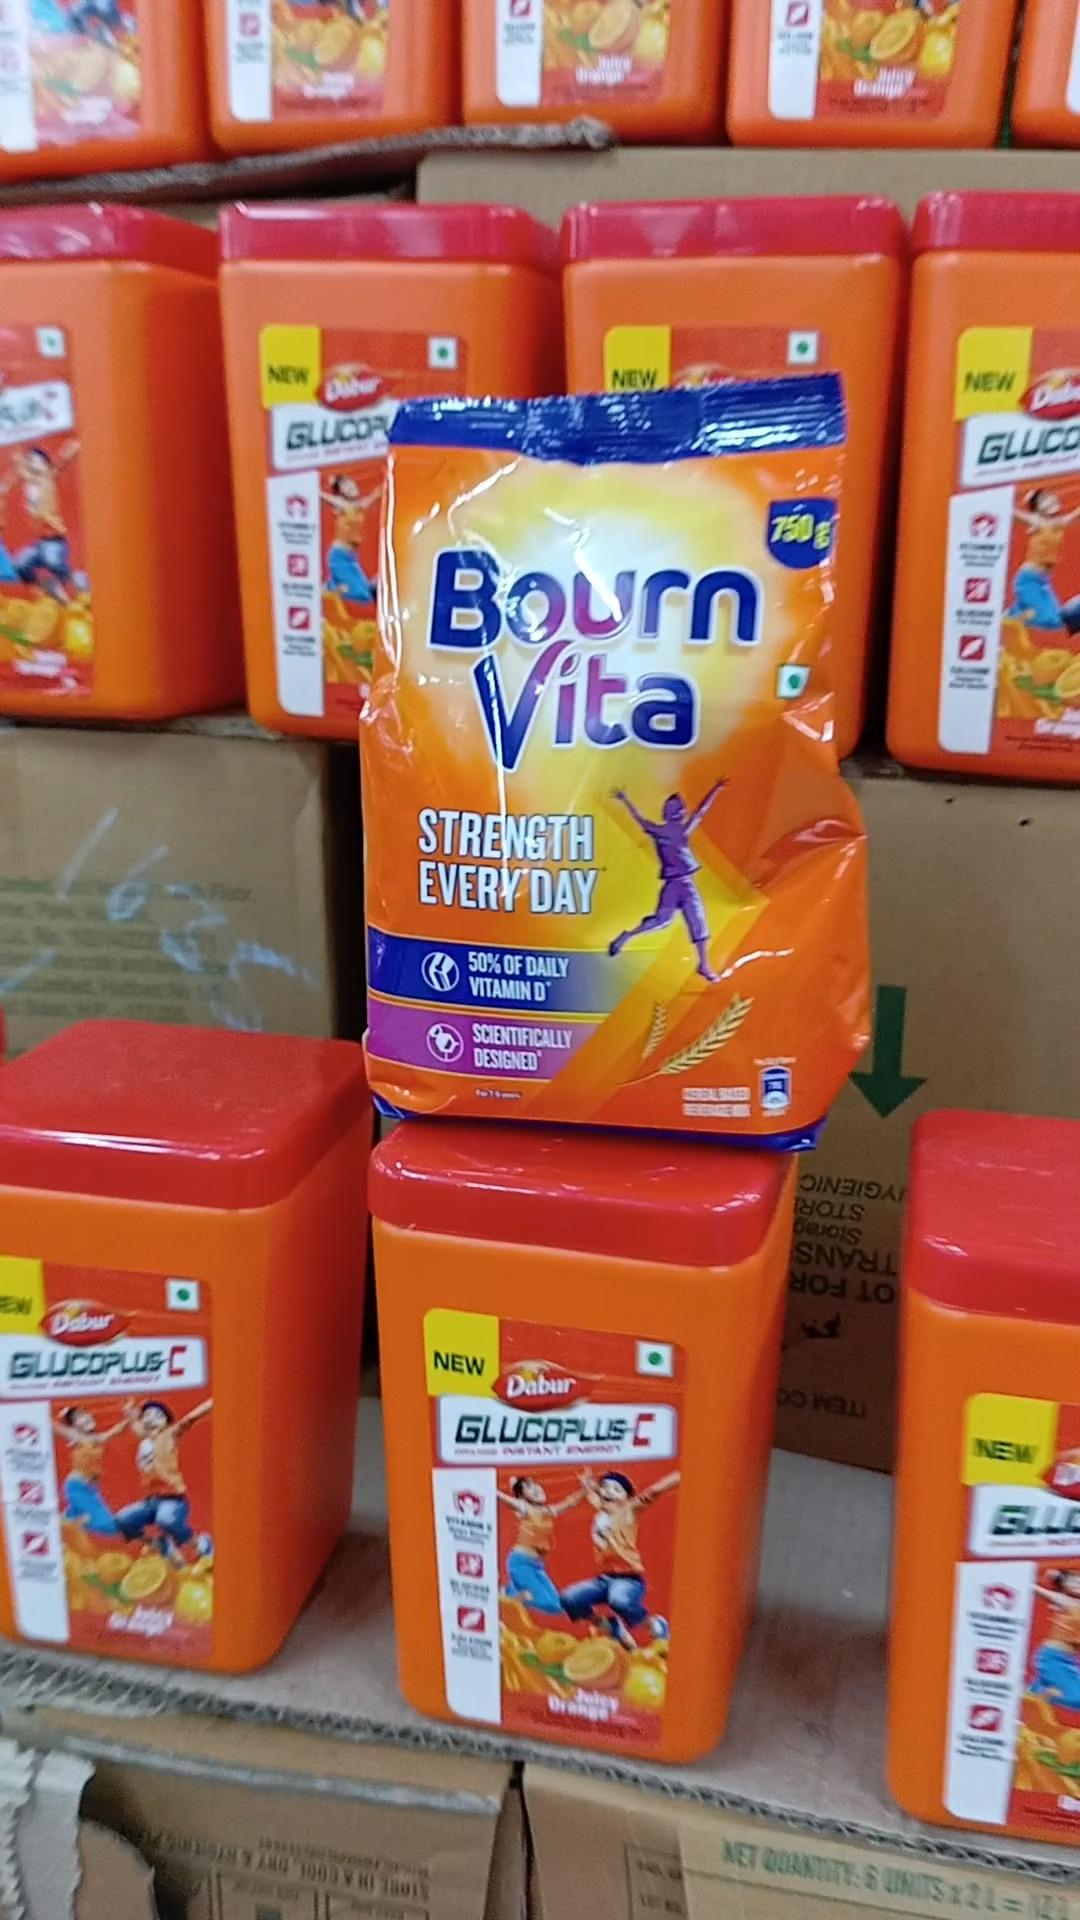BOURN_VITA_750_G_POUCH: (364, 373, 849, 1135)
